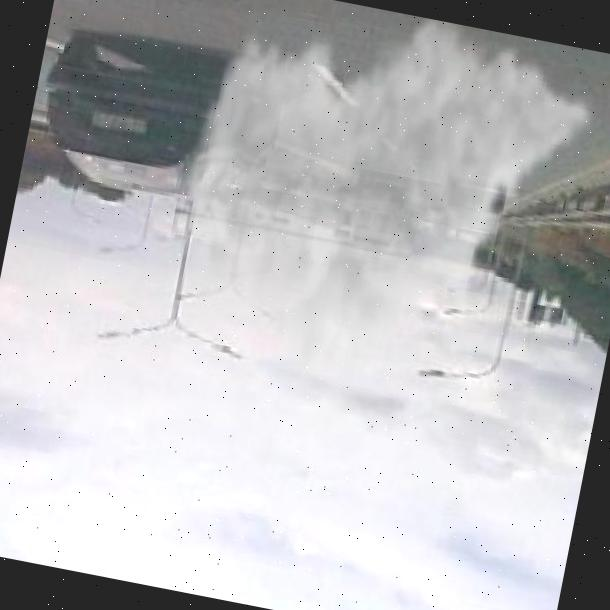smoke: (139, 0, 600, 455)
